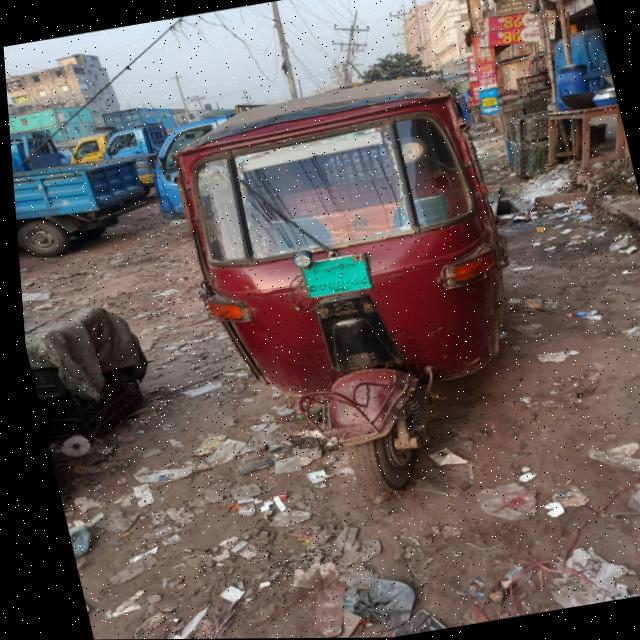cng: (120, 48, 574, 538)
